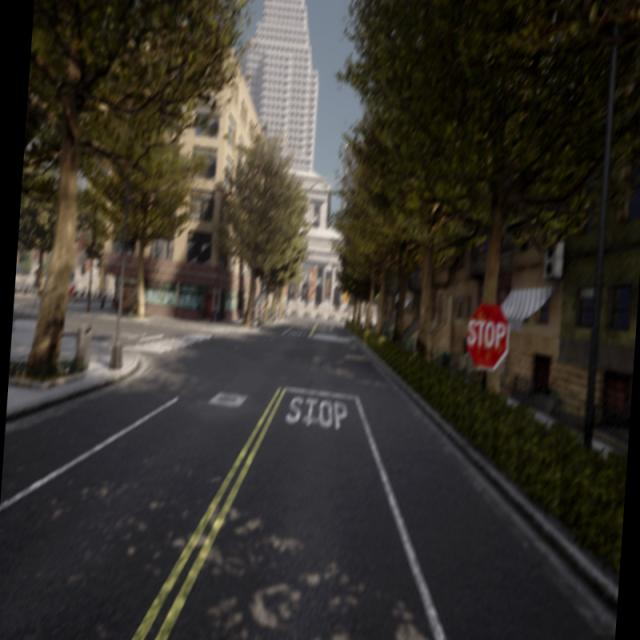stop sign: (463, 299, 511, 373)
